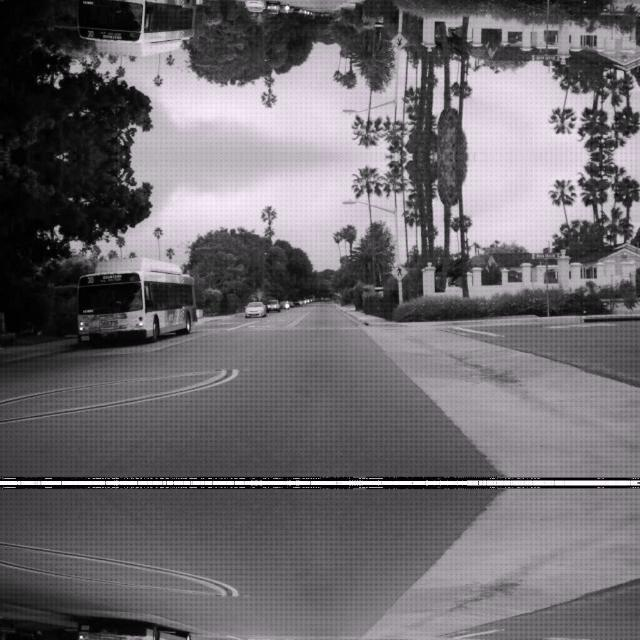pedestrianCrossing: (389, 262, 407, 280), (389, 32, 407, 50)
